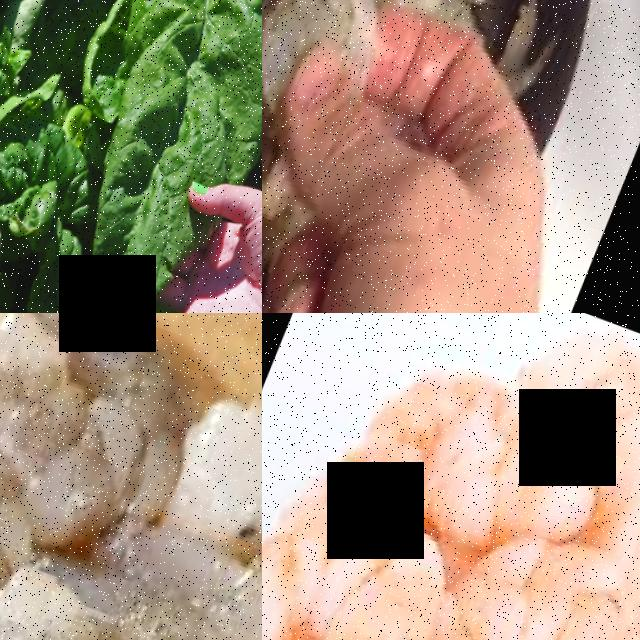shrimp: (262, 453, 476, 640), (360, 499, 640, 640)
spinach: (0, 313, 230, 524), (132, 376, 262, 639), (0, 535, 262, 640)
